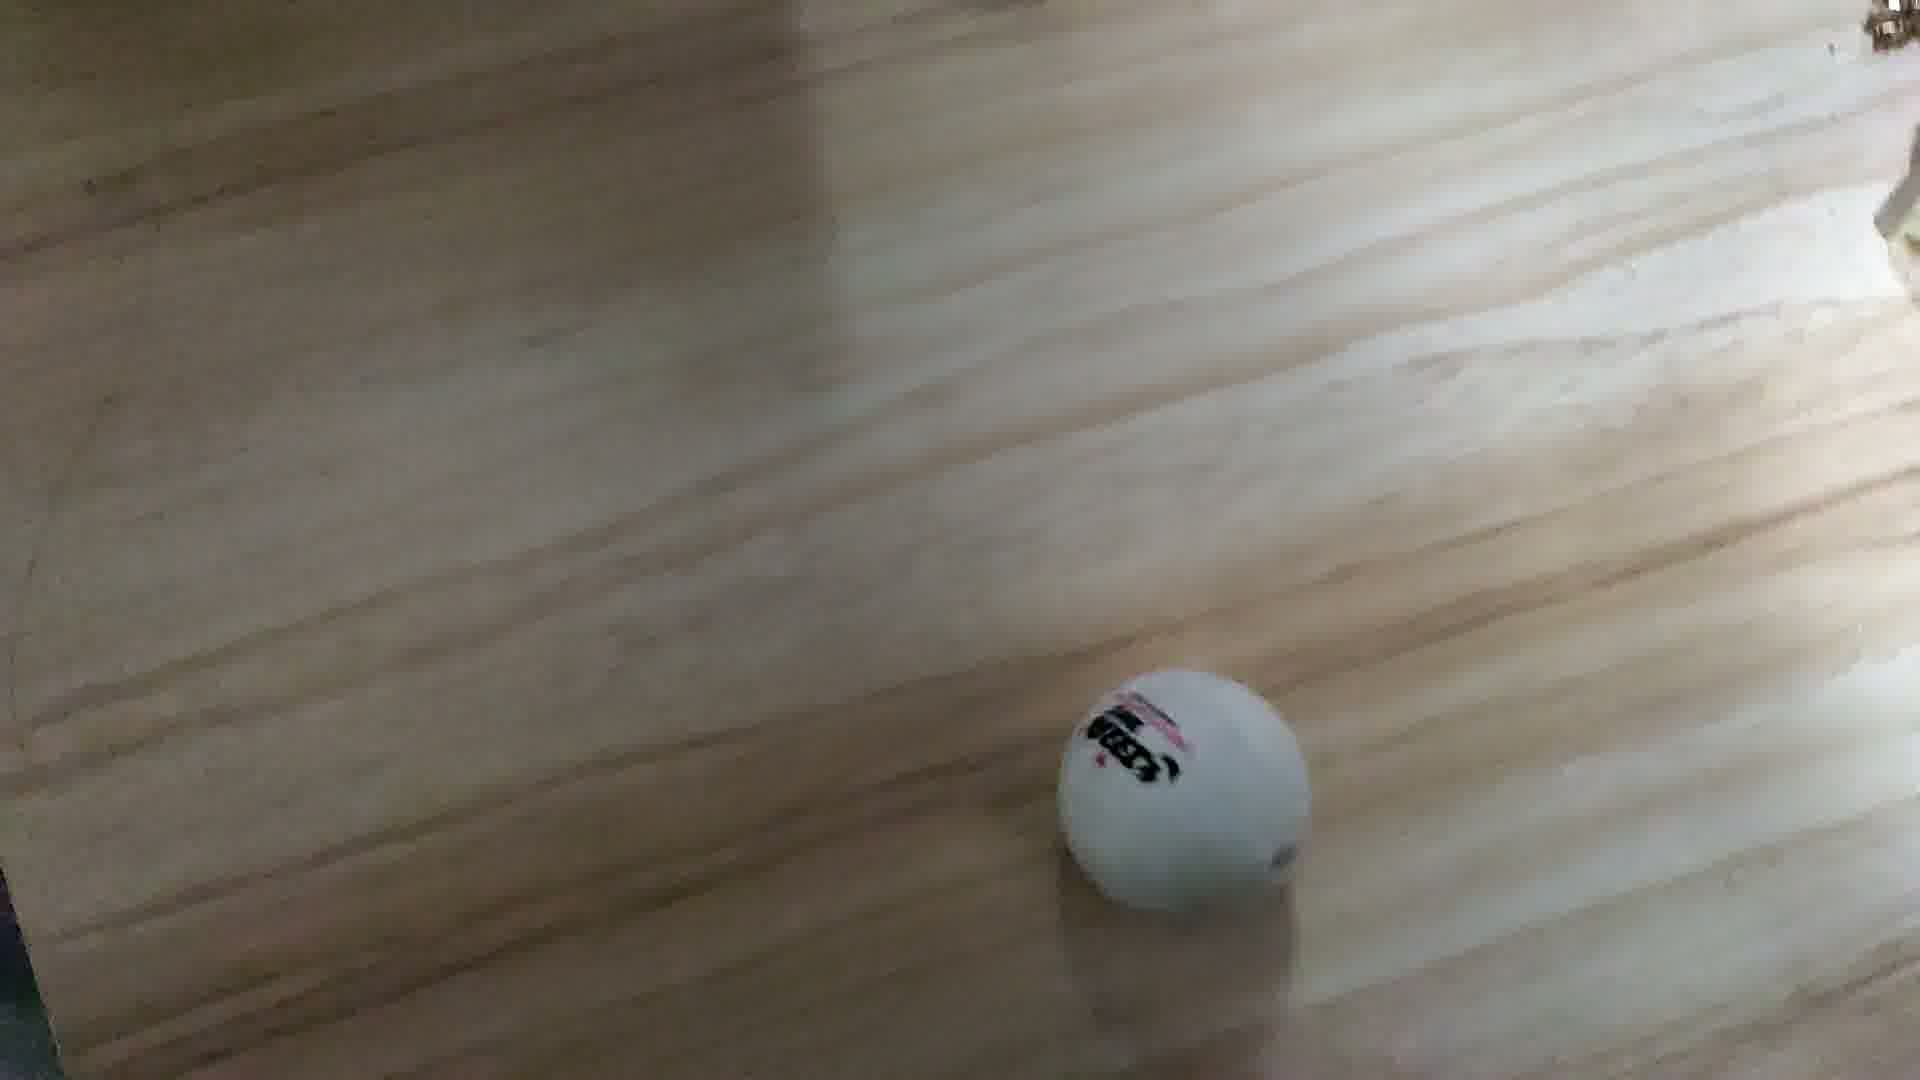Ball: (1051, 669, 1320, 916)
